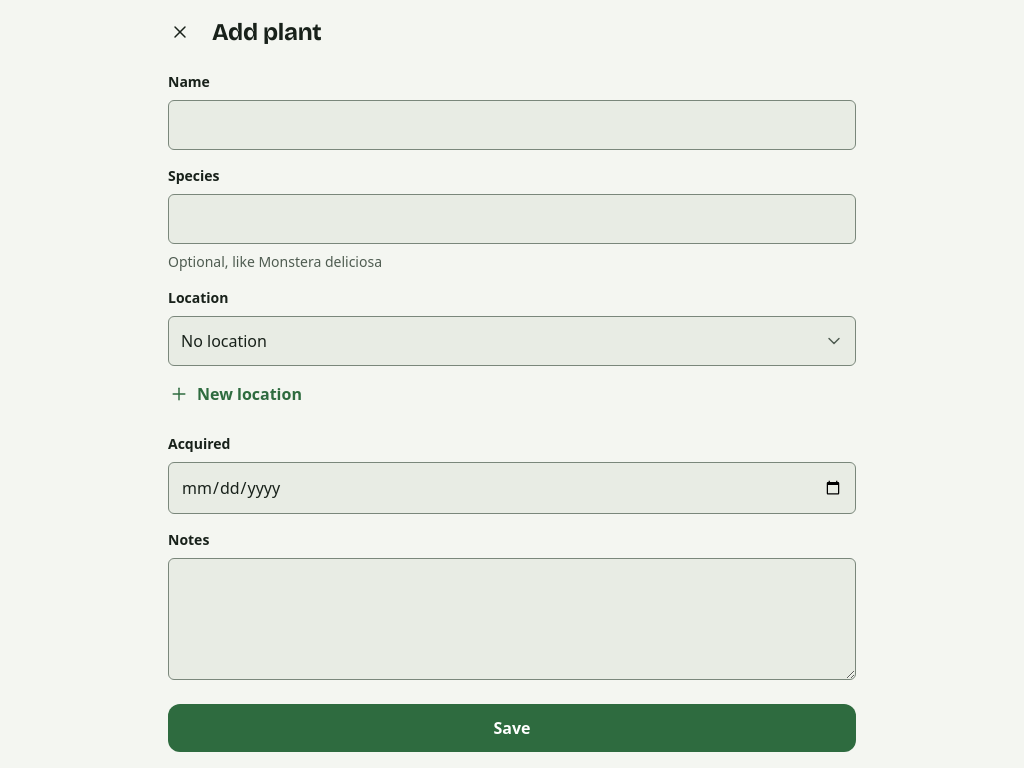
Test case: Plant form › saves the pot and soil, and the detail page sums them up
In the field labelled "Name": (512, 125) [168,100,856,150], type "Calathea"
(page scrolled)
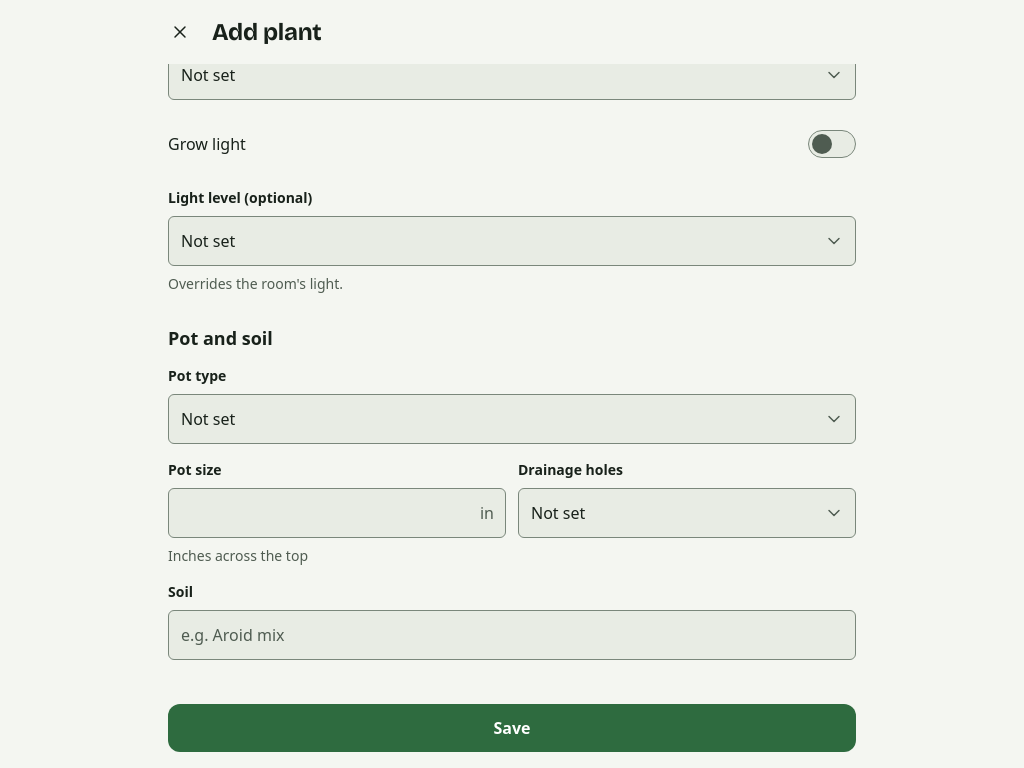
Select "Terracotta" in the dropdown labelled "Pot type": (512, 419) [168,394,856,444]
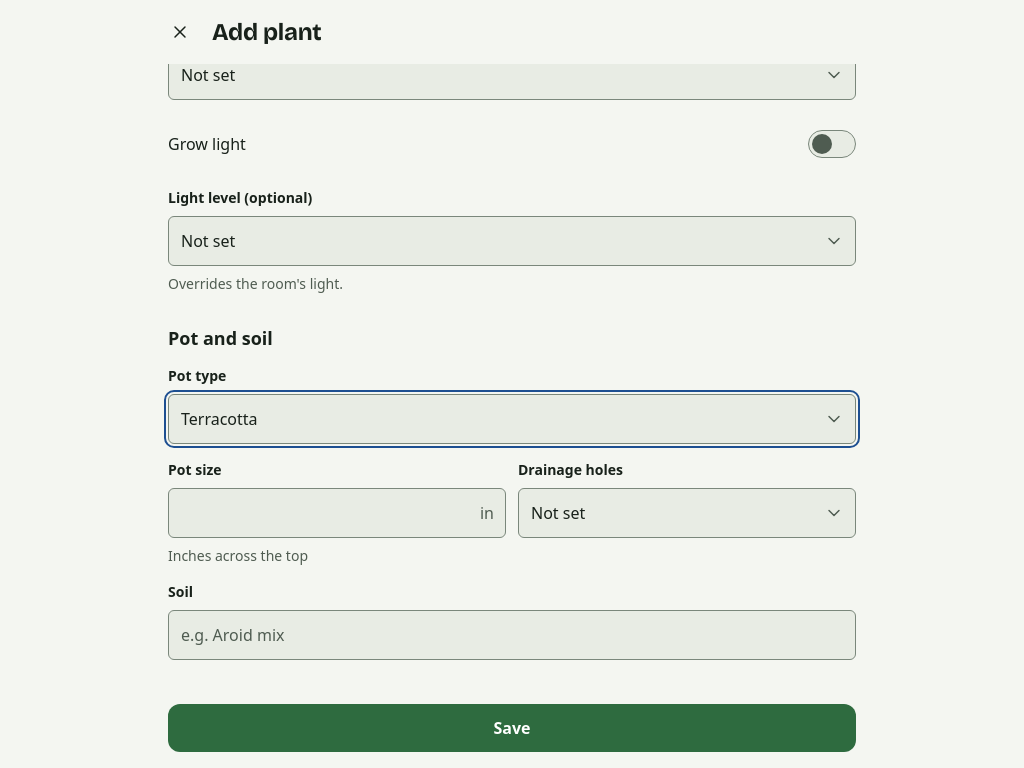
In the number field labelled "Pot size": (337, 513) [168,488,506,538], type "6.5"
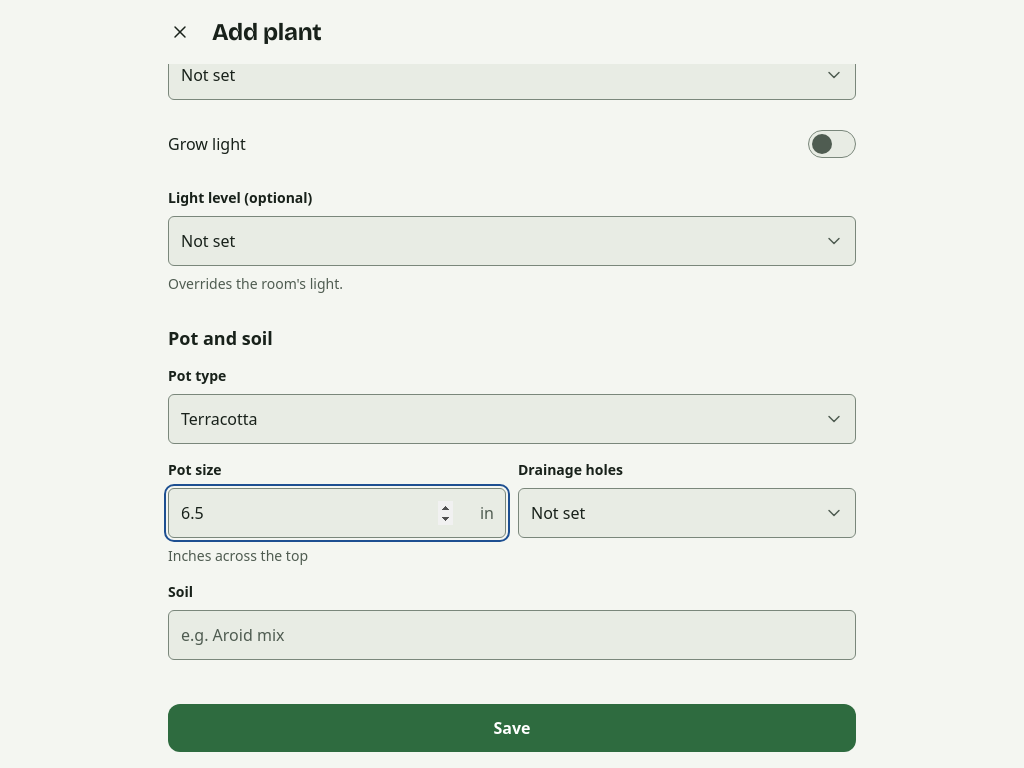
Select "Yes" in the dropdown labelled "Drainage holes": (687, 513) [518,488,856,538]
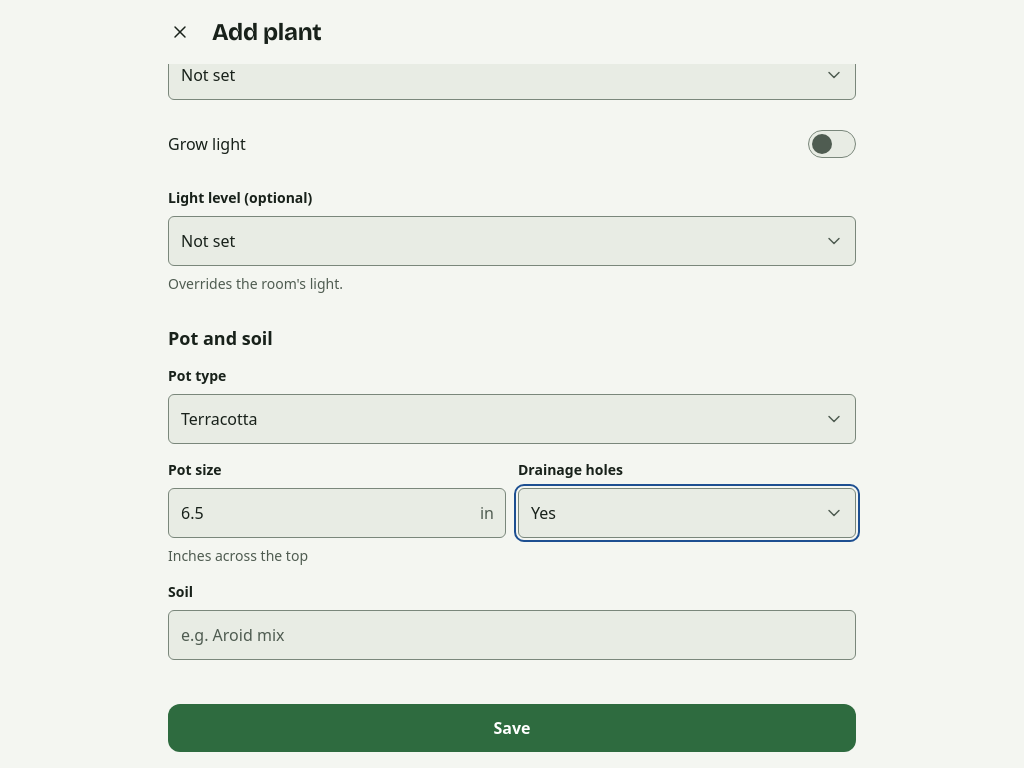
In the field labelled "Soil": (512, 635) [168,610,856,660], type " Aroid mix "
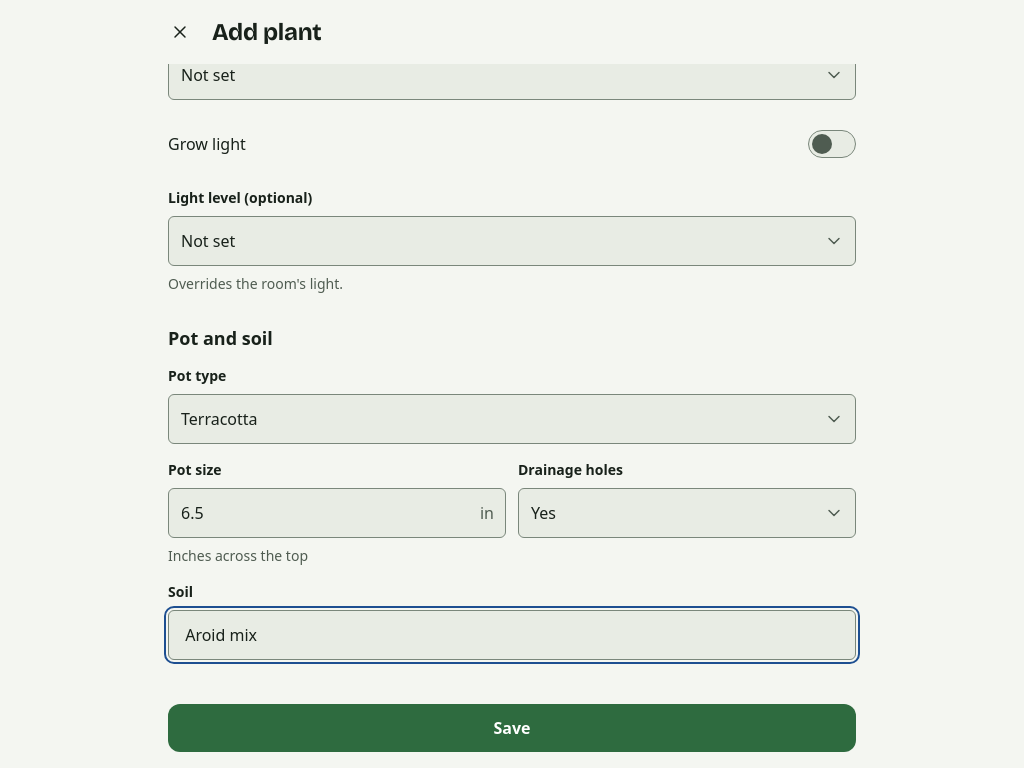
Click the button "Save": click(512, 728) [168,704,856,752]
(page scrolled)
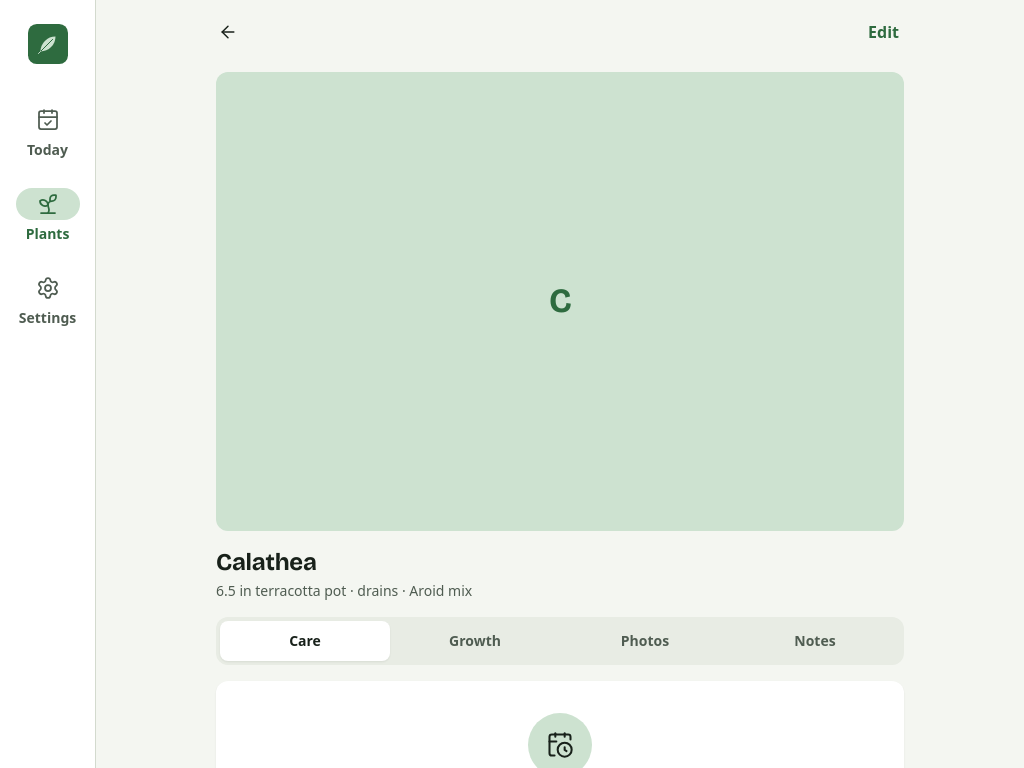
Expected: the heading "Calathea" is shown, [216,548,317,576]
Expected: the text "6.5 in terracotta pot · drains · Aroid mix" is shown, [216,581,472,600]
